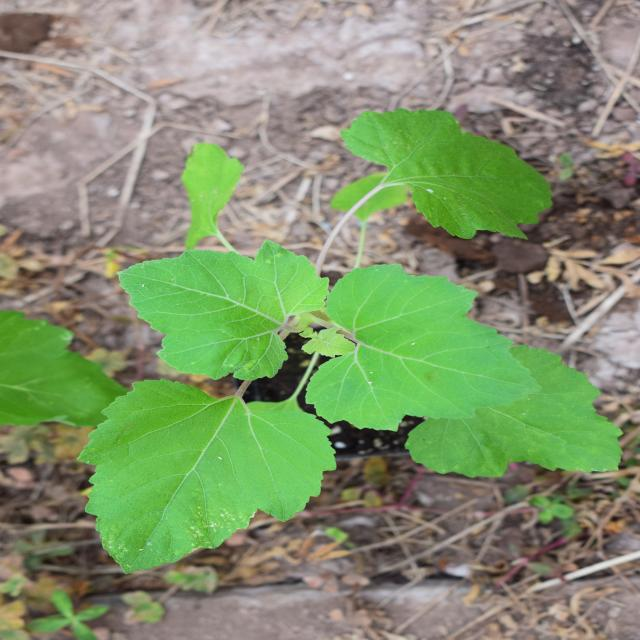cocklebur: (61, 76, 530, 552)
